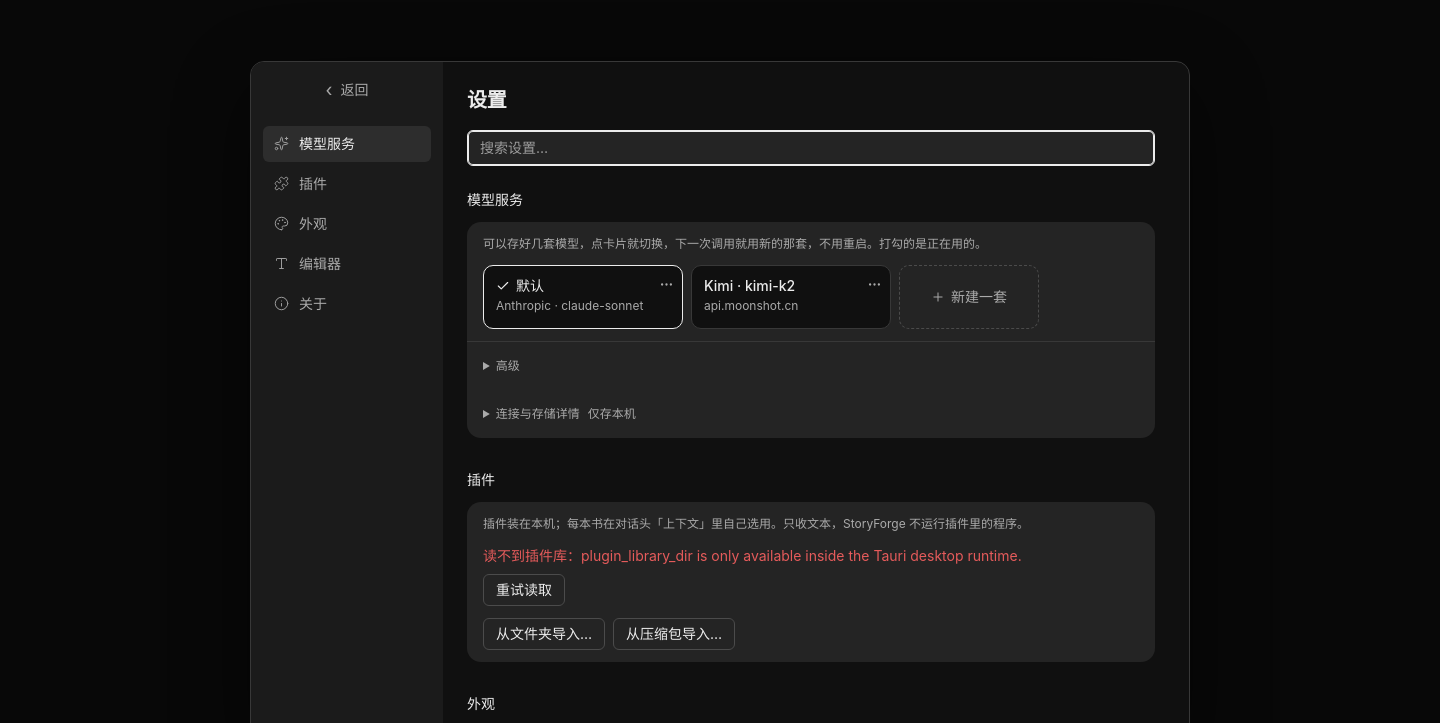
Test: 切换失败照实报错，卡片保持原样
Expected: the element with test id "model-profile-card" showing "Kimi · kimi-k2 api.moonshot.cn" is shown, [691,265,891,329]
Click the button with test id "model-profile-select" showing "Kimi · kimi-k2 api.moonshot.cn" at [791, 295], box [692,266,890,324]
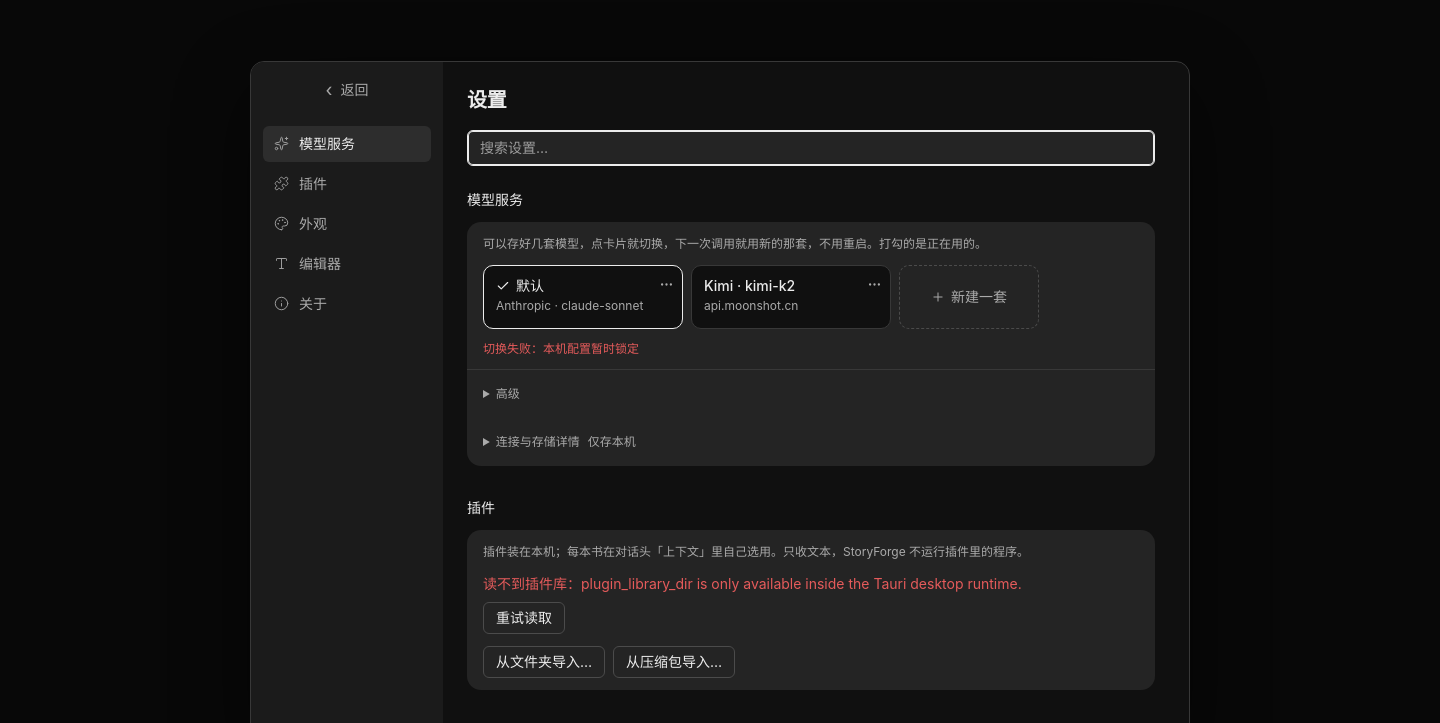
Expected: the button with test id "model-profile-select" showing "默认 Anthropic · claude-sonnet" is shown, [484,266,682,324]
Now the message "切换失败：本机配置暂时锁定" is shown, box [483,341,639,356]
